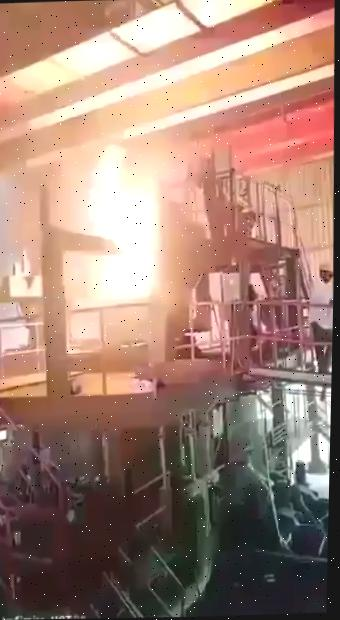fire: (34, 62, 302, 399)
